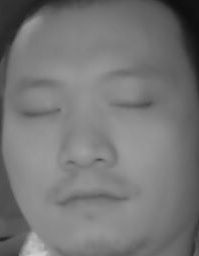blink: (109, 96, 152, 117), (23, 102, 61, 124)
mouth: (56, 183, 129, 216)
